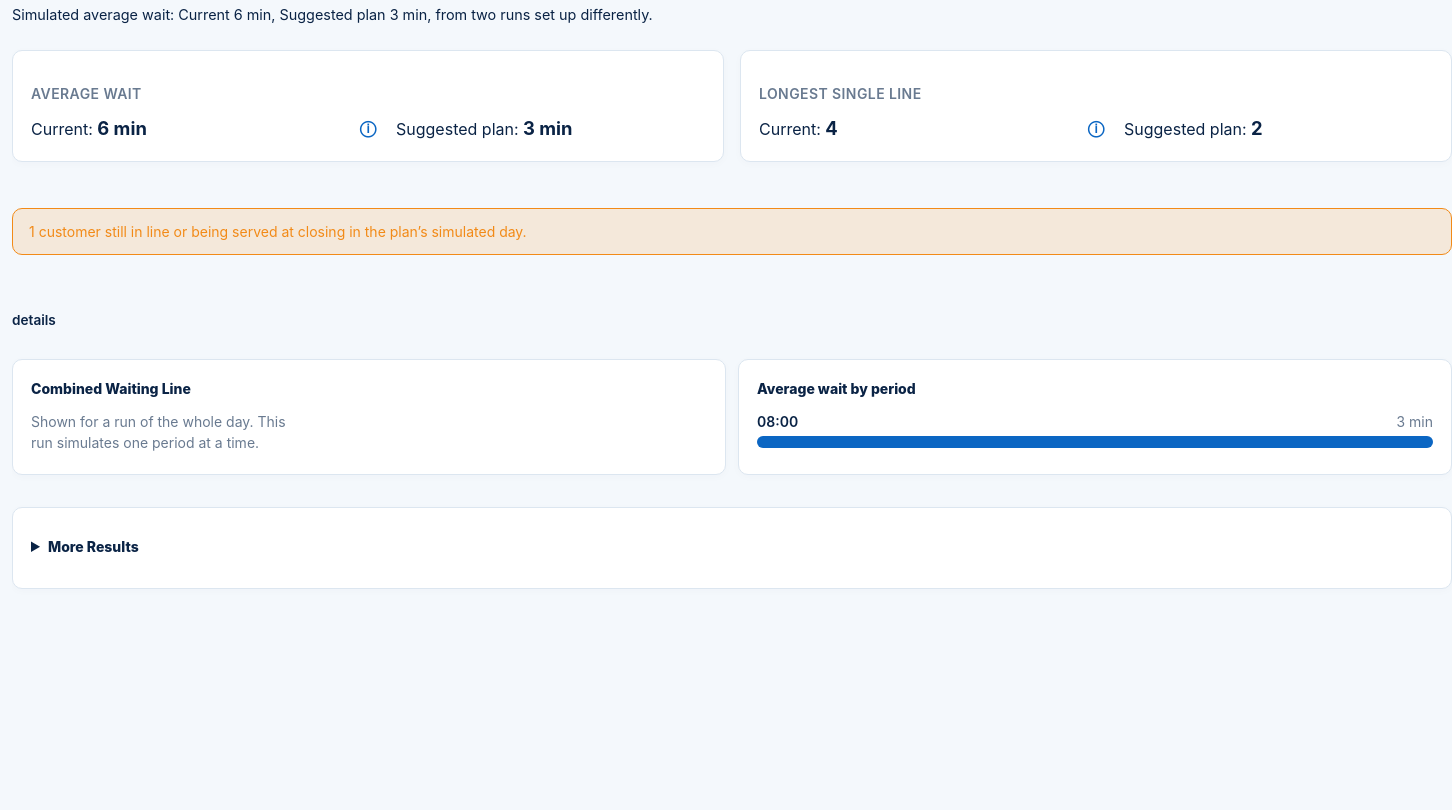
Test: Key Results cards (B5) › keeps the per-period basis text for a shared line, whose Current run does go one period at a time
Step 1. Hover over the button named "Why these are not the same basis" → (368, 127), box top-left (352, 111), bottom-right (384, 143)
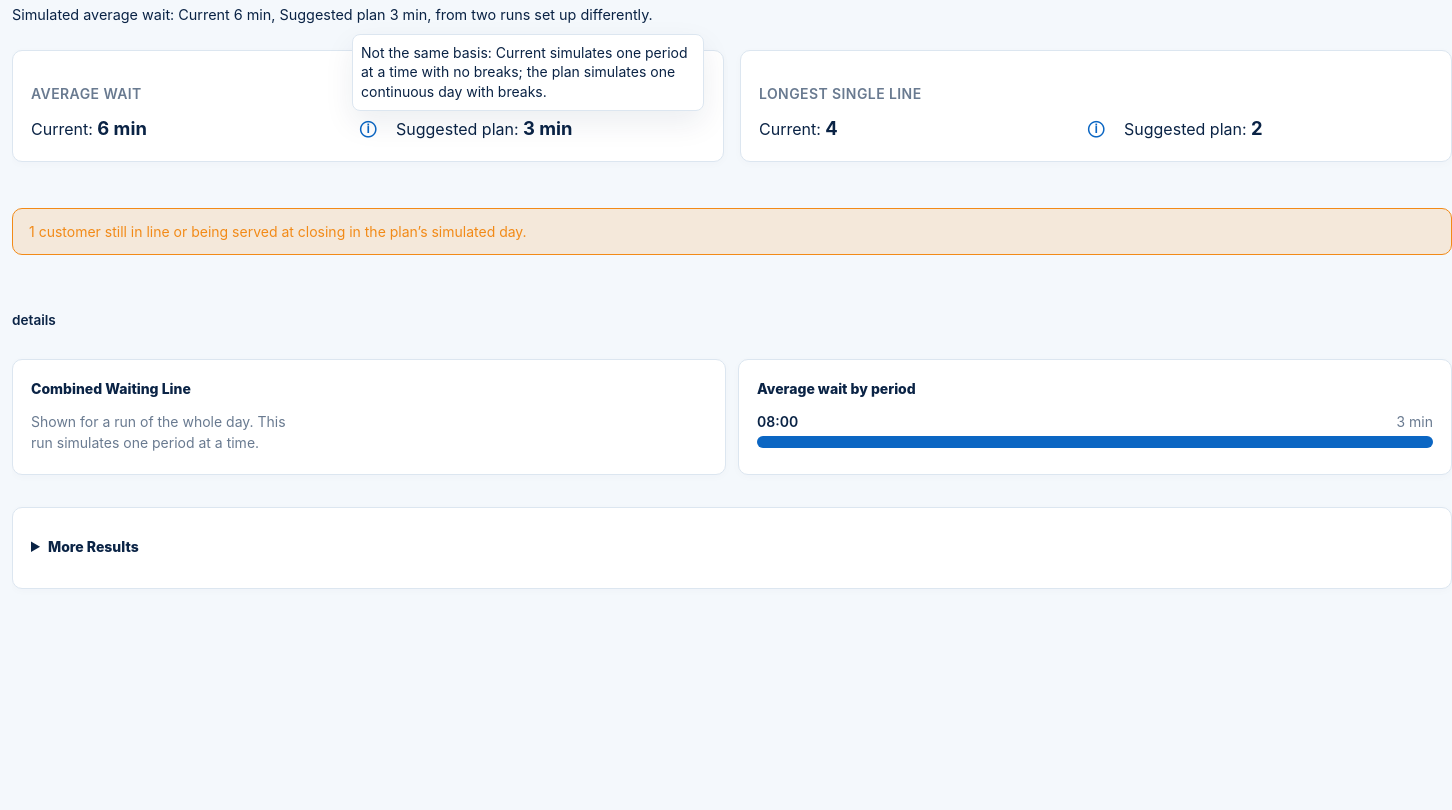
Result: the tooltip shows "Not the same basis: Current simulates one period at a time with no breaks; the plan simulates one continuous day with breaks." at top-left (361, 44), bottom-right (688, 100)
